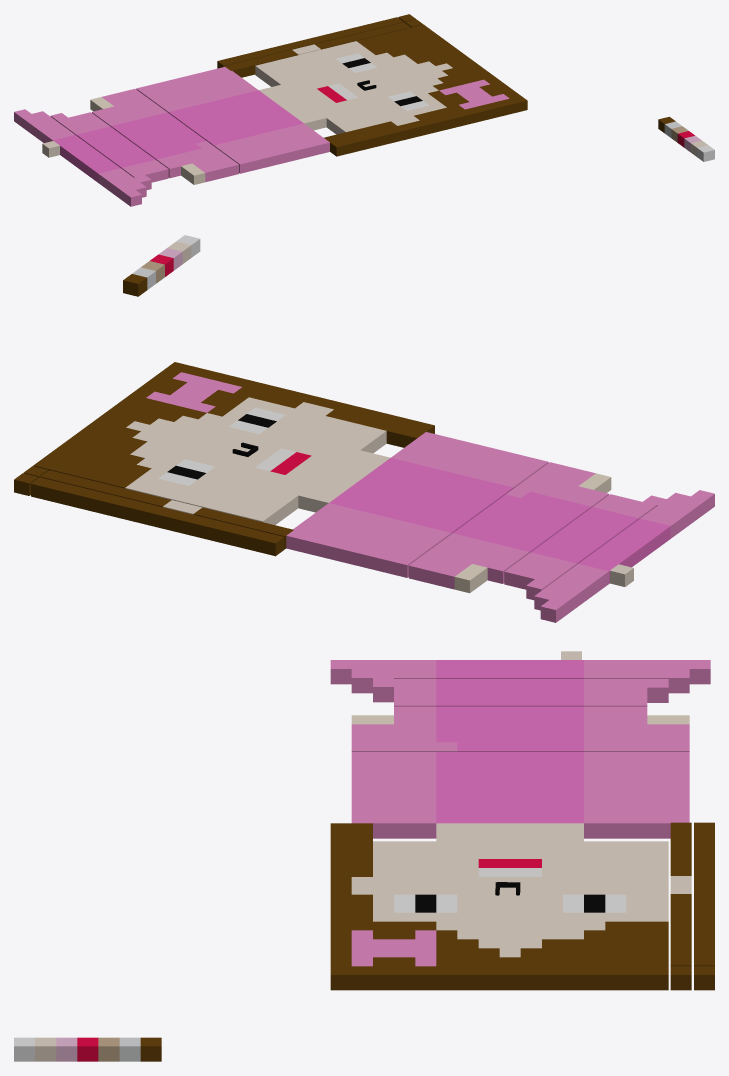
Rendered from Sophie_Shi.glb.
3 views of the same model, one above another, from view 1: azimuth 30°, elevation 25°; view 2: azimuth 150°, elevation 25°; view 3: azimuth 270°, elevation 25° (orthographic). The views are drawn at different scales.
Visible parts, largest first — view 1: Mesh_Mesh_head_geo.001_lambert2SG.001; view 2: Mesh_Mesh_head_geo.001_lambert2SG.001; view 3: Mesh_Mesh_head_geo.001_lambert2SG.001.
Boxes of the visible parts, x1,y1,x2,y2 form: Mesh_Mesh_head_geo.001_lambert2SG.001: (14, 14, 714, 206); Mesh_Mesh_head_geo.001_lambert2SG.001: (14, 235, 714, 622); Mesh_Mesh_head_geo.001_lambert2SG.001: (14, 651, 714, 1061).
Bounding box in the file's own units: 443 × 10 × 332.
